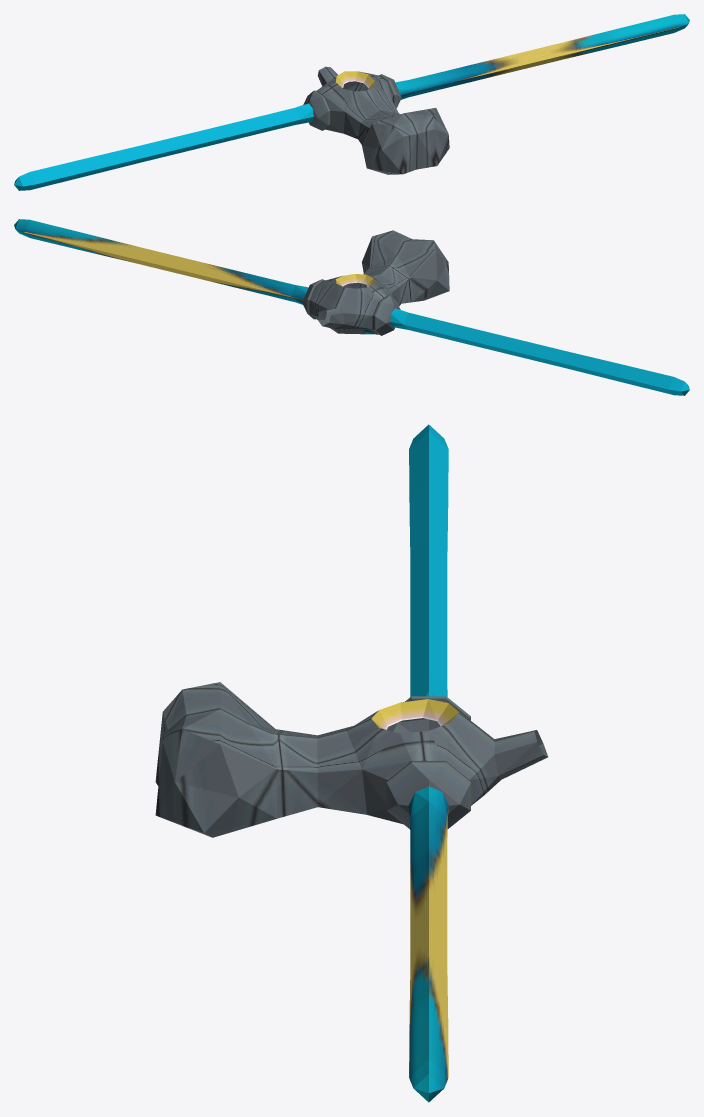
File: BR_Deoxys-Shiny07.obj
3 views of the same model, one above another, from view 1: azimuth 30°, elevation 25°; view 2: azimuth 150°, elevation 25°; view 3: azimuth 270°, elevation 25° (orthographic). The views are drawn at different scales.
Parts seen in each view (by area): view 1: deoxys_sp; view 2: deoxys_sp; view 3: deoxys_sp.
Part boxes in pixels (x1,y1,x2,y2): deoxys_sp: [14, 14, 689, 190]; deoxys_sp: [14, 219, 689, 395]; deoxys_sp: [155, 424, 548, 1102].
Size of the model in its own units: 26.7 by 2.21 by 6.72.
5 materials, 5 textured.
